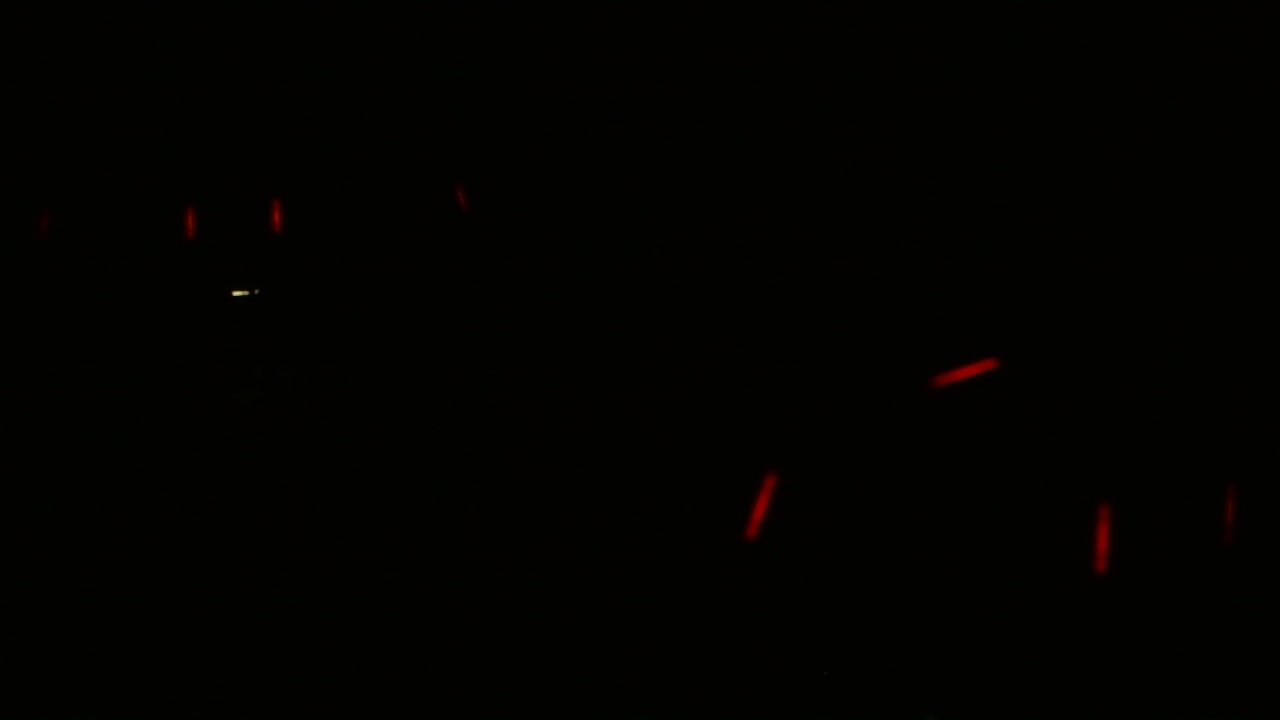pair1: (1088, 483, 1239, 574), (176, 197, 288, 242)
